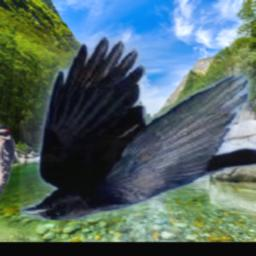Crow: (21, 37, 256, 220)
Woodpecker: (0, 124, 15, 204)
